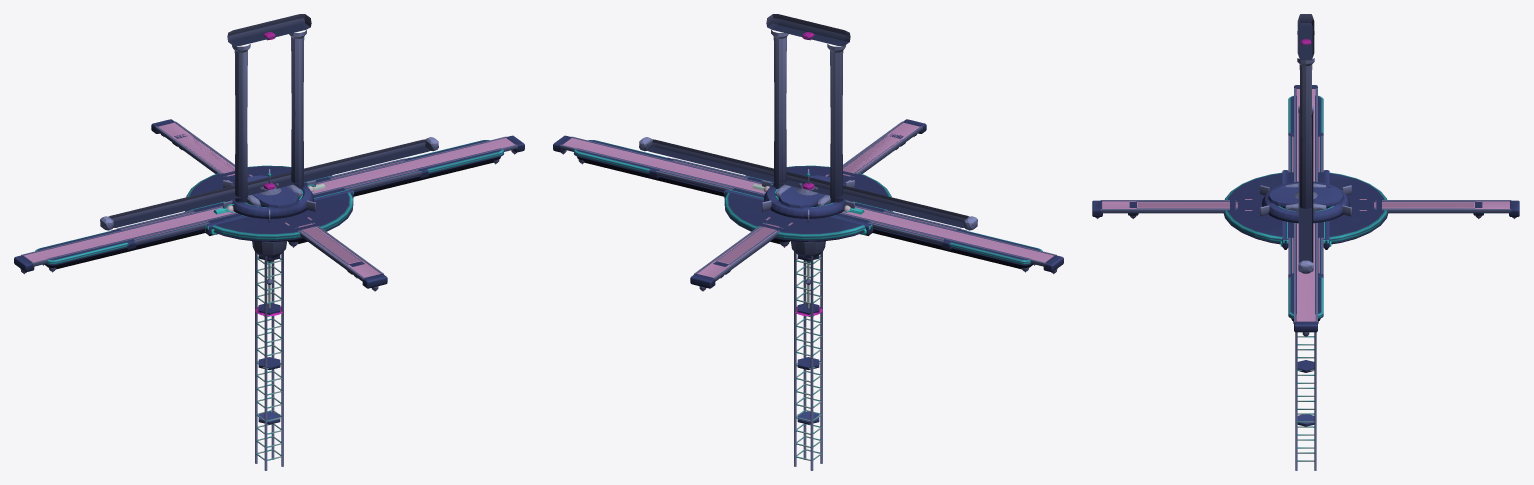
The model's file is core-1-CHdR-AaQ.glb.
3 renders of one model, left to right at view 1: azimuth 30°, elevation 25°; view 2: azimuth 150°, elevation 25°; view 3: azimuth 270°, elevation 25°, orthographic.
Parts seen in each view (by area): view 1: pressFrame_3.5x6x2x7#0, beam_48x1.5x2#0, mount_15.6#0, truss_24#0, disc_14x1.5#1, block_44x2x3_grate#0, beam_2x1.5x36#1, beam_29x1.5x3#1, geyserVent_5.4#0, block_44x2x2.5_grate#0, beam_1.5x1x30#1, spout_2x5#0 (+1 smaller); view 2: pressFrame_3.5x6x2x7#0, beam_48x1.5x2#0, mount_15.6#0, truss_24#0, disc_14x1.5#1, block_44x2x3_grate#0, beam_2x1.5x36#1, beam_29x1.5x3#1, beam_1.5x1x30#1, geyserVent_5.4#0, block_44x2x2.5_grate#0, spout_2x5#0 (+1 smaller); view 3: disc_14x1.5#1, beam_2x1.5x36#1, beam_48x1.5x2#0, pressFrame_3.5x6x2x7#0, truss_24#0, beam_1.5x1x30#1, mount_15.6#0, geyserVent_5.4#0, block_44x2x3_grate#0, spout_2x5#0, block_4x2x13.5#0, beam_29x1.5x3#1 (+3 smaller).
Boxes of the visible parts, x1=… form: pressFrame_3.5x6x2x7#0: x1=227, y1=14, x2=311, y2=203; beam_48x1.5x2#0: x1=14, y1=135, x2=524, y2=274; mount_15.6#0: x1=100, y1=137, x2=438, y2=230; truss_24#0: x1=255, y1=251, x2=283, y2=470; disc_14x1.5#1: x1=186, y1=165, x2=353, y2=263; block_44x2x3_grate#0: x1=35, y1=140, x2=504, y2=272; beam_2x1.5x36#1: x1=151, y1=119, x2=387, y2=291; beam_29x1.5x3#1: x1=111, y1=157, x2=428, y2=250; geyserVent_5.4#0: x1=223, y1=169, x2=315, y2=222; block_44x2x2.5_grate#0: x1=37, y1=141, x2=500, y2=258; beam_1.5x1x30#1: x1=172, y1=134, x2=364, y2=278; spout_2x5#0: x1=247, y1=173, x2=302, y2=207; pressFrame_3.5x6x2x7#0: x1=766, y1=14, x2=850, y2=203; beam_48x1.5x2#0: x1=553, y1=135, x2=1063, y2=274; mount_15.6#0: x1=639, y1=137, x2=977, y2=230; truss_24#0: x1=794, y1=251, x2=822, y2=470; disc_14x1.5#1: x1=724, y1=165, x2=891, y2=263; block_44x2x3_grate#0: x1=573, y1=140, x2=1042, y2=272; beam_2x1.5x36#1: x1=690, y1=119, x2=926, y2=291; beam_29x1.5x3#1: x1=649, y1=157, x2=966, y2=250; beam_1.5x1x30#1: x1=713, y1=133, x2=905, y2=278; geyserVent_5.4#0: x1=762, y1=169, x2=854, y2=222; block_44x2x2.5_grate#0: x1=577, y1=141, x2=1040, y2=258; spout_2x5#0: x1=775, y1=173, x2=830, y2=207; disc_14x1.5#1: x1=1223, y1=172, x2=1388, y2=244; beam_2x1.5x36#1: x1=1092, y1=200, x2=1519, y2=218; beam_48x1.5x2#0: x1=1294, y1=85, x2=1317, y2=336; pressFrame_3.5x6x2x7#0: x1=1297, y1=14, x2=1314, y2=208; truss_24#0: x1=1295, y1=332, x2=1316, y2=470; beam_1.5x1x30#1: x1=1128, y1=201, x2=1483, y2=218; mount_15.6#0: x1=1298, y1=106, x2=1313, y2=273; geyserVent_5.4#0: x1=1260, y1=181, x2=1351, y2=223; block_44x2x3_grate#0: x1=1288, y1=95, x2=1323, y2=323; spout_2x5#0: x1=1268, y1=183, x2=1343, y2=211; block_4x2x13.5#0: x1=1230, y1=196, x2=1381, y2=213; beam_29x1.5x3#1: x1=1288, y1=133, x2=1323, y2=277.
Size of the model in its own units: 48 by 40.4 by 36.
